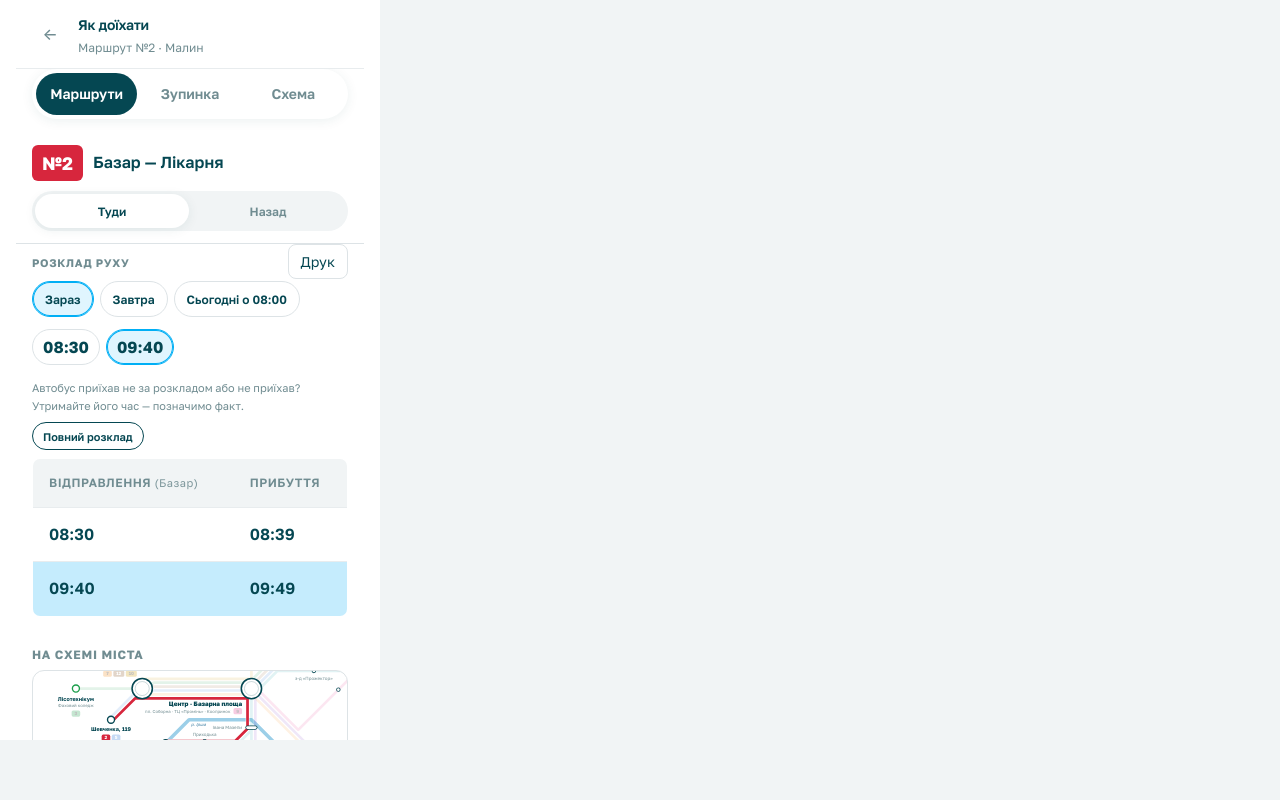
Test: route page: long press on a departure chip › «Був раніше: 5 хв тому» sends minutesAgo
Right-click the button "08:30" at (66, 347), box [32,329,100,365]
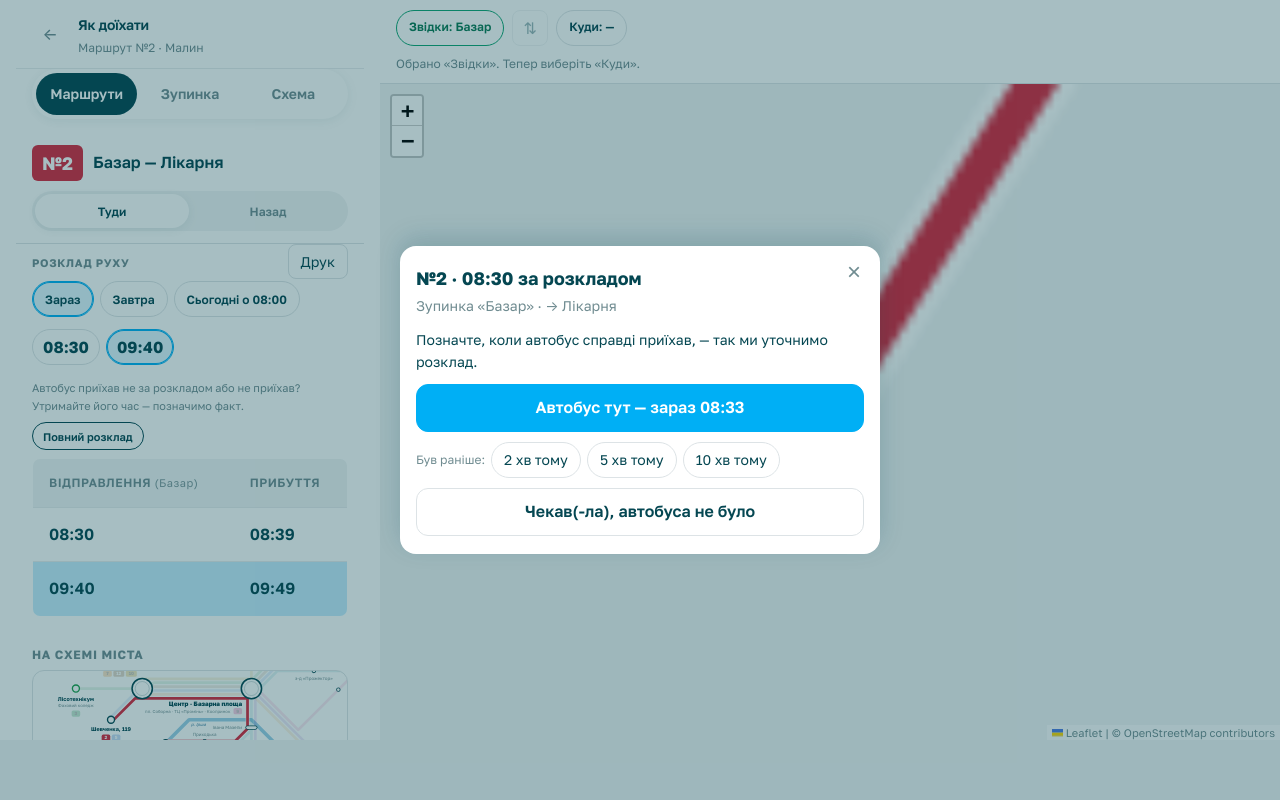
Click the button "5 хв тому" at (632, 460), box [587,442,677,478]
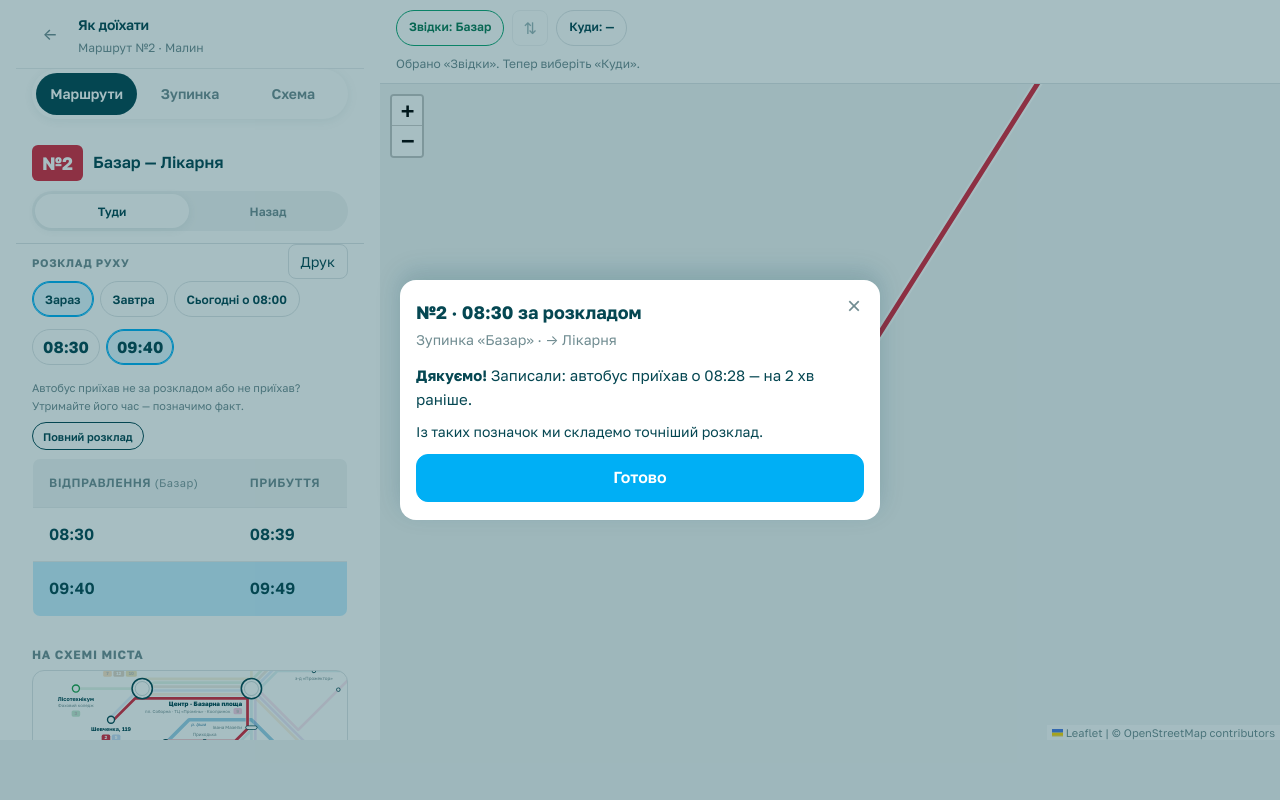
expect the text "Дякуємо! Записали: автобус приїхав о 08:28 — на 2 хв раніше." is shown: met, box [416,363,864,411]
